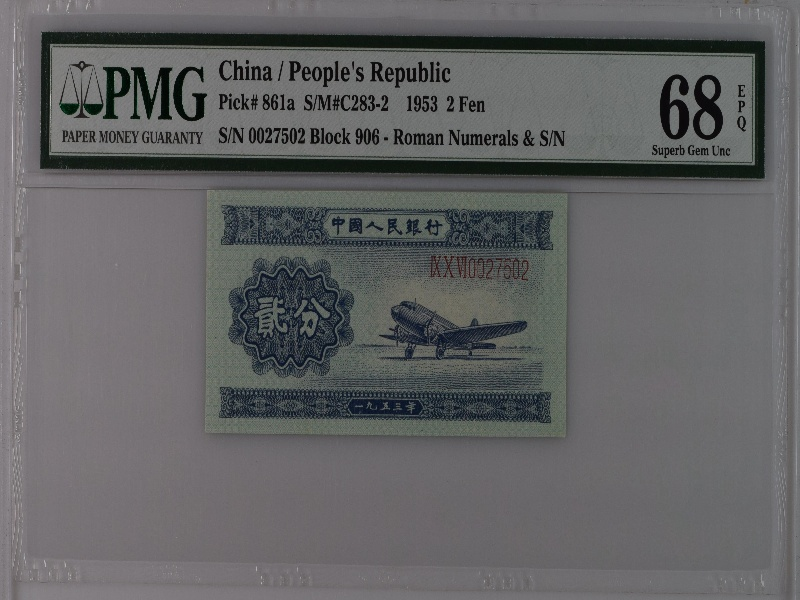papernote: (203, 187, 570, 440)
